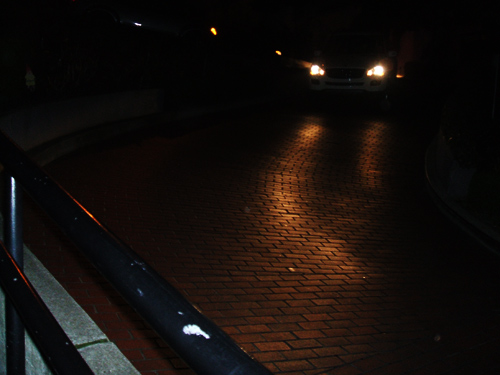car: (304, 18, 401, 105)
